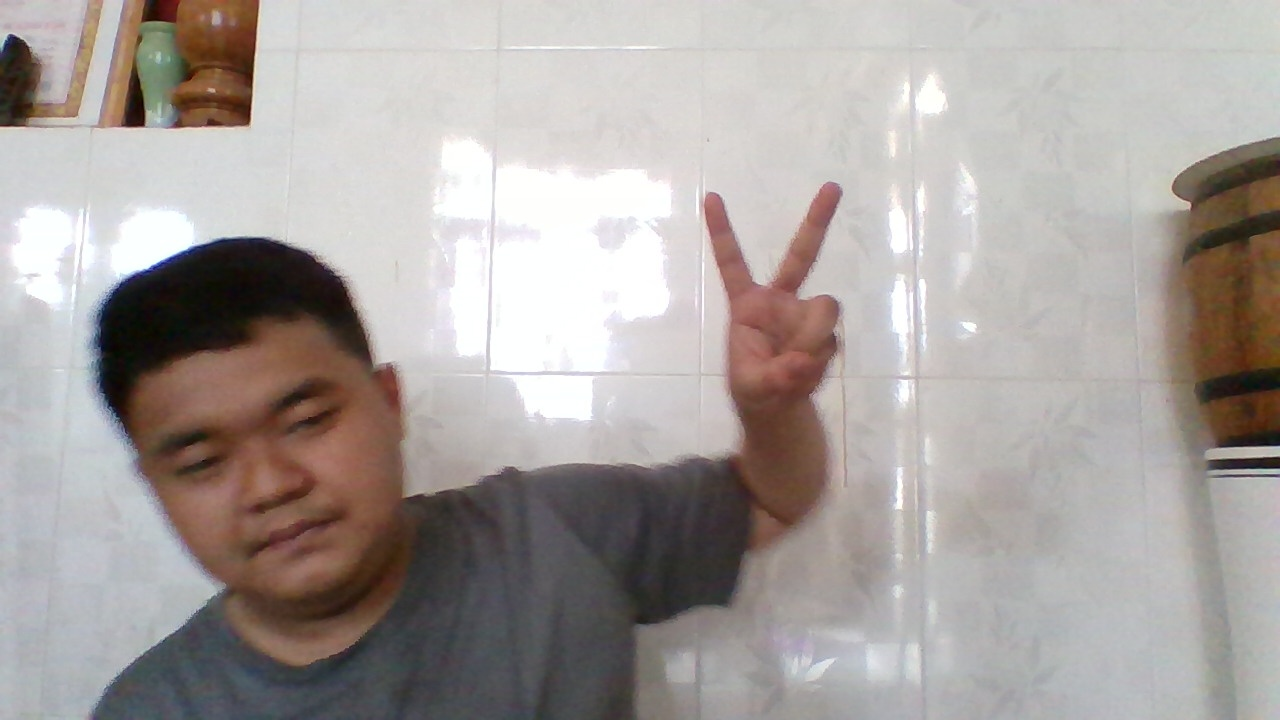V: (694, 175, 851, 420)
